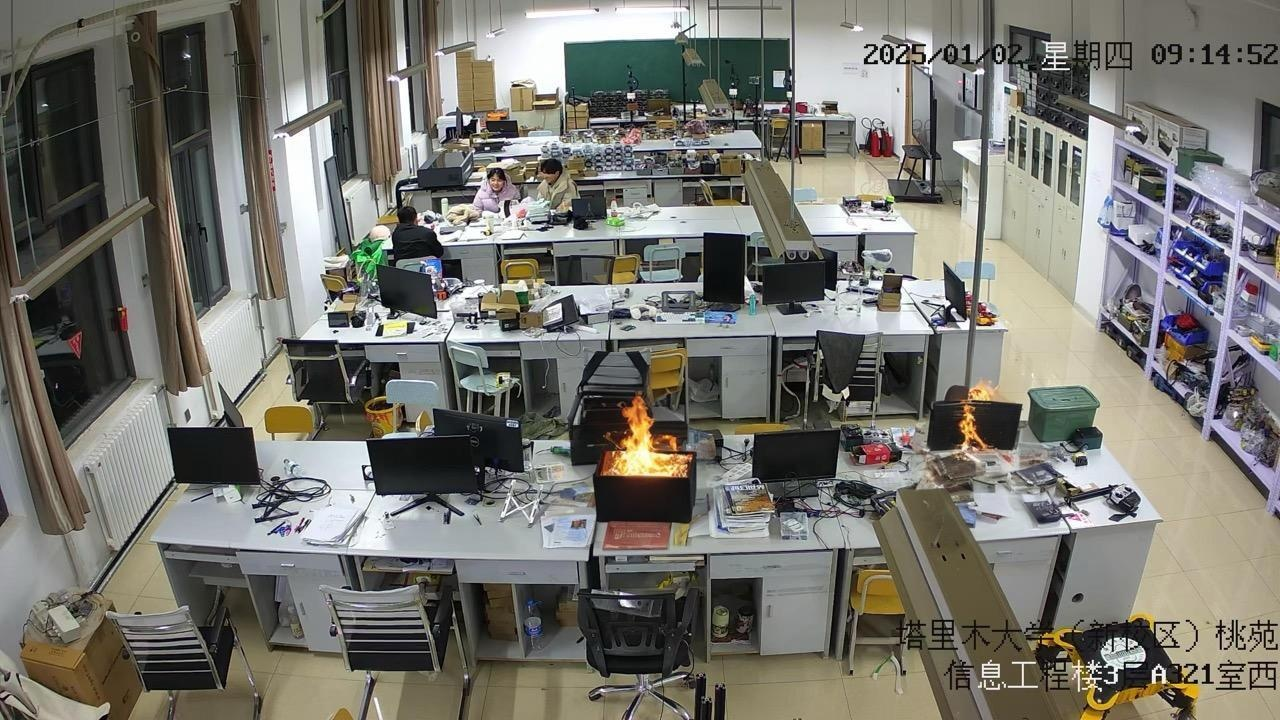fire: (608, 397, 697, 512), (954, 381, 1011, 460)
